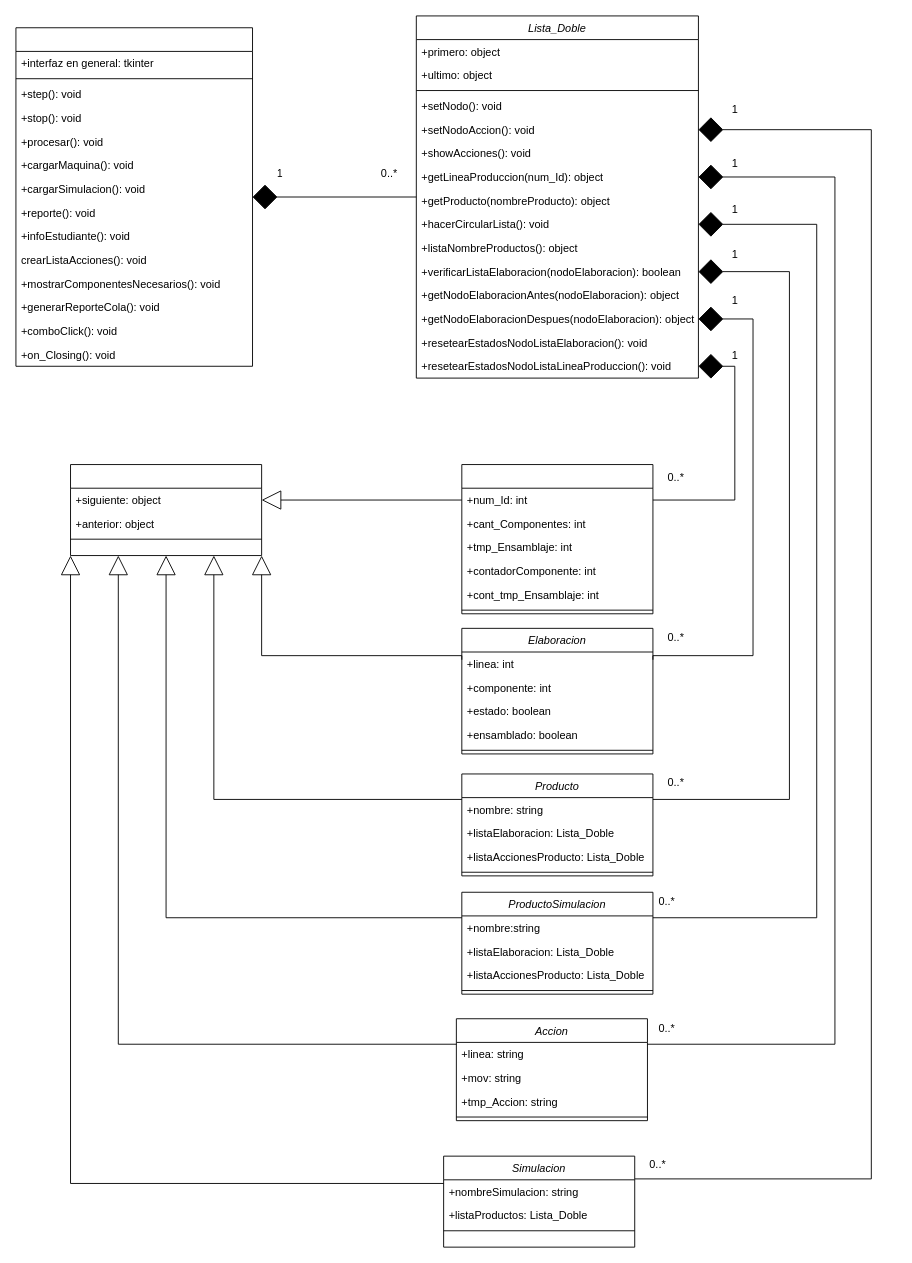
Image size: 912x1263. Some labels were removed from this diagram. The shapes that lost their labels are listed below. From the top down, each one's box as (x1, y1, x2, y2) in pixels, then its label:
(15, 27, 253, 366): Menu
(70, 464, 262, 556): NodoLista
(461, 464, 653, 614): LineasProduccion
